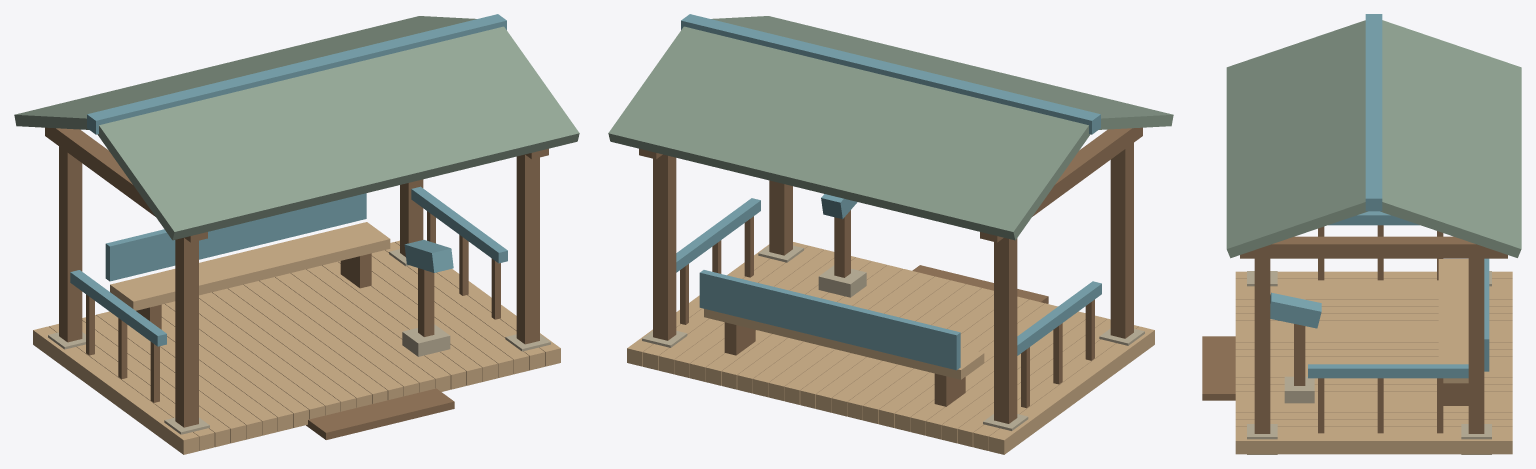
3 views of the same model, side by side, from view 1: azimuth 30°, elevation 25°; view 2: azimuth 150°, elevation 25°; view 3: azimuth 270°, elevation 25° (orthographic). The views are drawn at different scales.
Visible parts, largest first — view 1: Bench seat, Bench back, Roof panel, Ridge cap, Roof panel.012, Roof panel.018, Roof panel.006, Roof panel.008, Roof panel.004, Roof panel.002, Roof panel.016, Roof panel.010 (+51 smaller); view 2: Bench back, Roof panel.001, Ridge cap, Roof panel.019, Roof panel.007, Roof panel.005, Roof panel.009, Roof panel.011, Roof panel.003, Roof panel.015, Roof panel.013, Roof panel.017 (+51 smaller); view 3: Deck plank.023, Eave crossbar.001, Roof panel.019, Roof panel.018, Ridge cap, Bench seat, Timber post.002, Timber post.003, Roof panel, Roof panel.008, Roof panel.003, Roof panel.013 (+50 smaller).
Part boxes in pixels (x1,y1,x2,y2): Bench seat: [110, 222, 390, 310]; Bench back: [105, 193, 366, 281]; Roof panel: [97, 115, 214, 240]; Ridge cap: [87, 14, 506, 134]; Roof panel.012: [342, 56, 457, 180]; Roof panel.018: [463, 26, 579, 151]; Roof panel.006: [221, 86, 336, 210]; Roof panel.008: [261, 76, 376, 200]; Roof panel.004: [180, 95, 295, 220]; Roof panel.002: [140, 105, 255, 230]; Roof panel.016: [423, 36, 538, 161]; Roof panel.010: [302, 66, 417, 190]; Bench back: [699, 270, 960, 370]; Roof panel.001: [972, 115, 1090, 240]; Ridge cap: [681, 14, 1100, 134]; Roof panel.019: [608, 26, 724, 151]; Roof panel.007: [851, 86, 966, 210]; Roof panel.005: [891, 95, 1007, 220]; Roof panel.009: [811, 76, 926, 200]; Roof panel.011: [770, 66, 885, 190]; Roof panel.003: [932, 105, 1048, 230]; Roof panel.015: [689, 46, 805, 171]; Roof panel.013: [730, 56, 845, 180]; Roof panel.017: [649, 36, 764, 161]; Deck plank.023: [1235, 434, 1512, 454]; Eave crossbar.001: [1240, 236, 1507, 258]; Roof panel.019: [1380, 184, 1521, 257]; Roof panel.018: [1226, 184, 1367, 258]; Ridge cap: [1365, 14, 1382, 211]; Bench seat: [1438, 259, 1468, 383]; Timber post.002: [1254, 258, 1270, 433]; Timber post.003: [1468, 258, 1484, 433]; Roof panel: [1226, 20, 1365, 85]; Roof panel.008: [1226, 93, 1365, 157]; Roof panel.003: [1382, 38, 1521, 103]; Roof panel.013: [1382, 129, 1521, 194].
Bounding box in the file's own units: 5.28 × 3.55 × 3.86.
